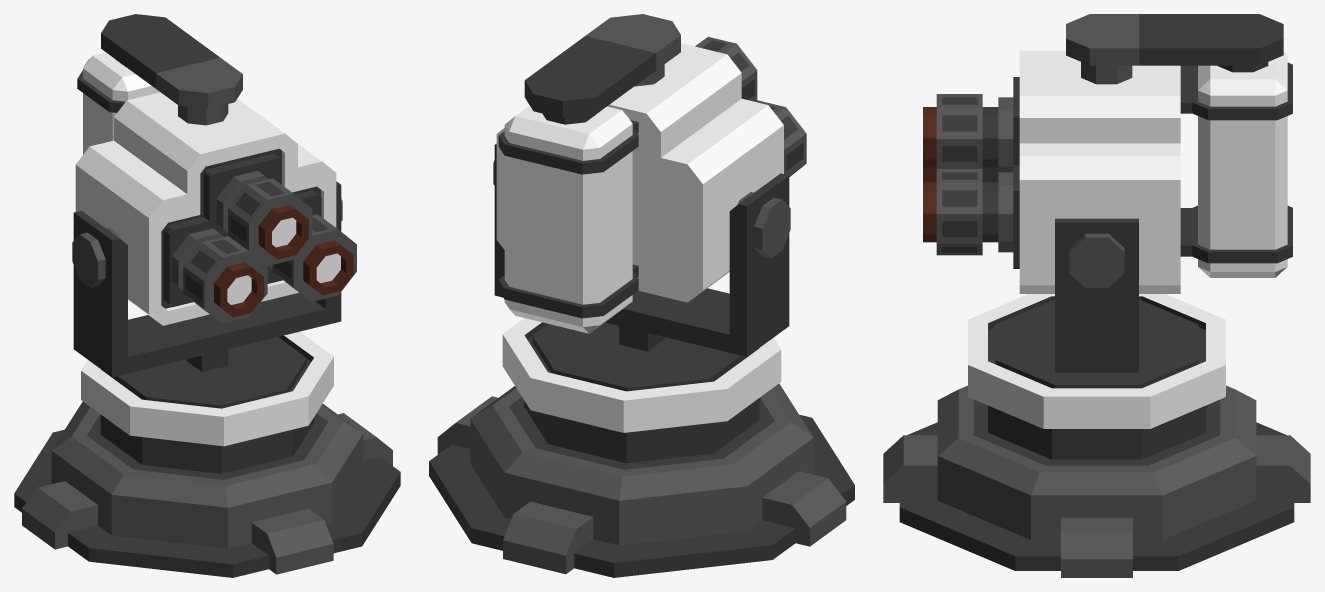
The model's file is Flame_3.fbx.
3 views of the same model, side by side, from view 1: azimuth 30°, elevation 25°; view 2: azimuth 150°, elevation 25°; view 3: azimuth 270°, elevation 25° (orthographic). The views are drawn at different scales.
Parts seen in each view (by area): view 1: Body_Mesh, Base_Mesh, Upper_Mesh; view 2: Body_Mesh, Base_Mesh, Upper_Mesh; view 3: Body_Mesh, Base_Mesh, Upper_Mesh.
Boxes of the visible parts, box(x1,y1,x2,y2) form: Body_Mesh: box(72, 14, 356, 325); Base_Mesh: box(14, 401, 400, 577); Upper_Mesh: box(73, 181, 341, 473); Body_Mesh: box(493, 14, 806, 333); Base_Mesh: box(429, 383, 854, 577); Upper_Mesh: box(494, 143, 789, 463); Body_Mesh: box(923, 14, 1292, 293); Base_Mesh: box(883, 385, 1310, 577); Upper_Mesh: box(968, 218, 1225, 459).
Bounding box in the file's own units: 1.3 × 1.53 × 1.3.
